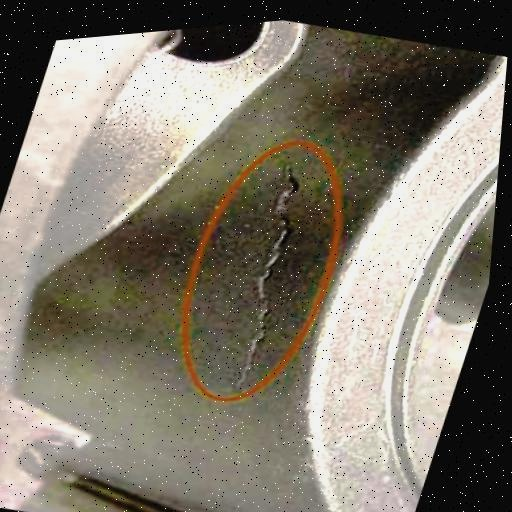crack: (205, 152, 331, 406)
